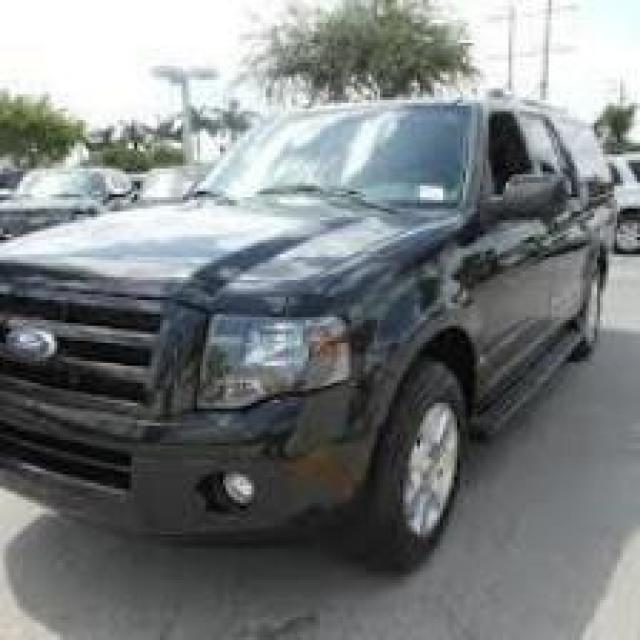damaged: (274, 319, 403, 472)
